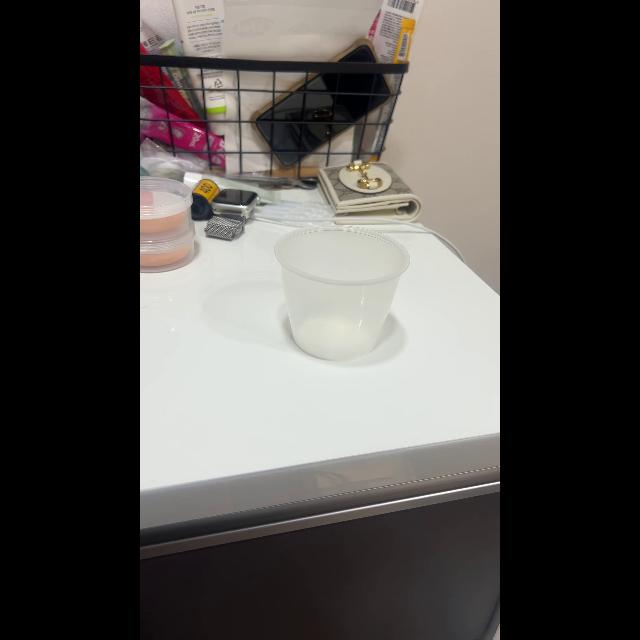clean: (276, 224, 408, 364)
